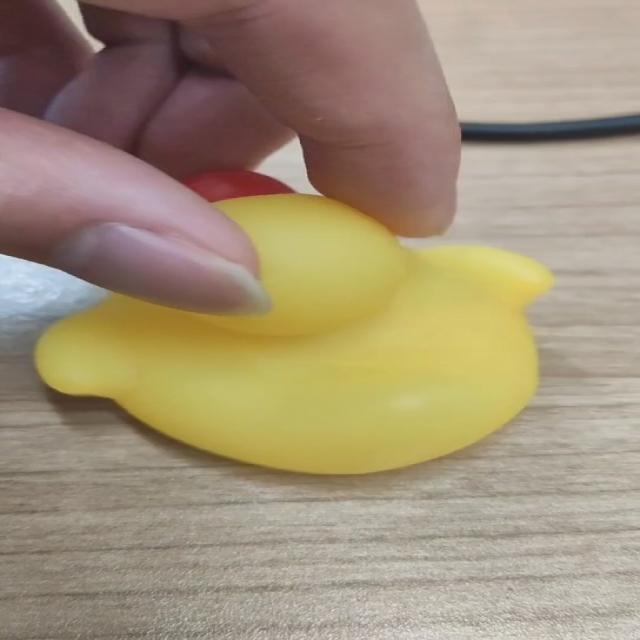rubber-duck: (35, 193, 551, 472)
